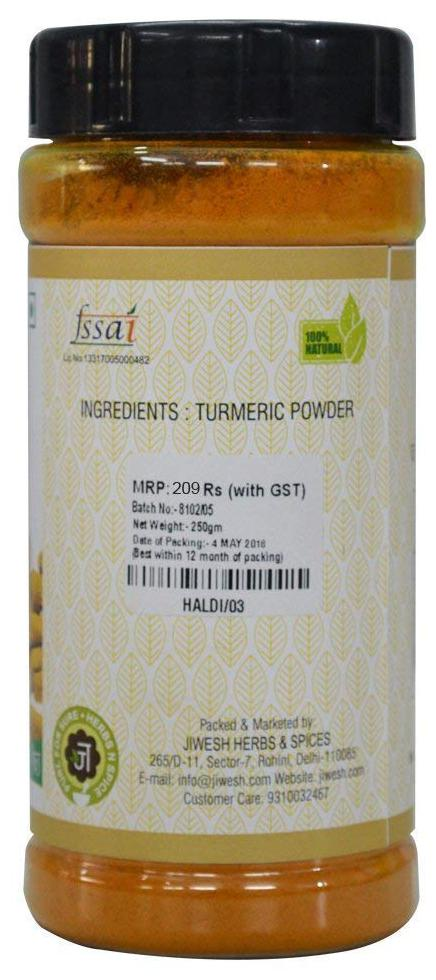fssai: (72, 303, 138, 347)
